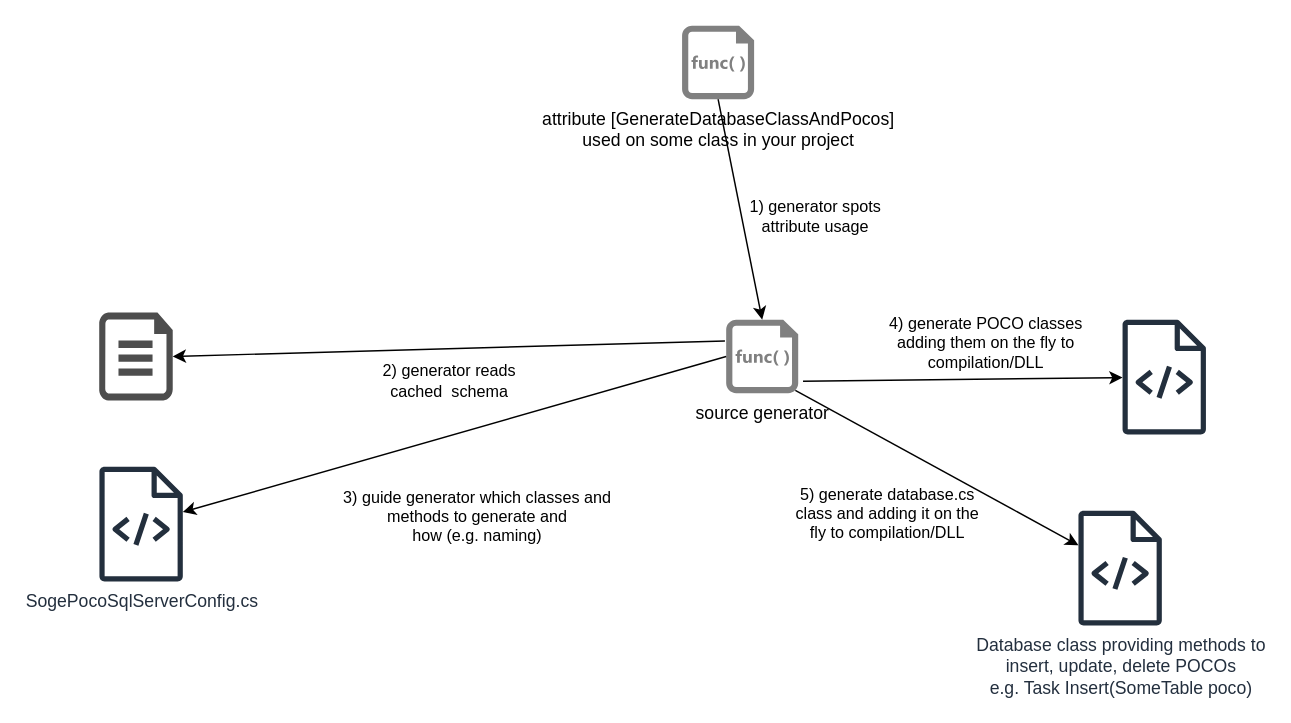
This 1291x723 diagram has some shape labels left out. Here are the shapes that lost their labels. From the top down, the centre of each, then its label:
At (135,356): "dbschema.json".
At (1163,376): "POCO classes e.g. SomeTable.cs".
